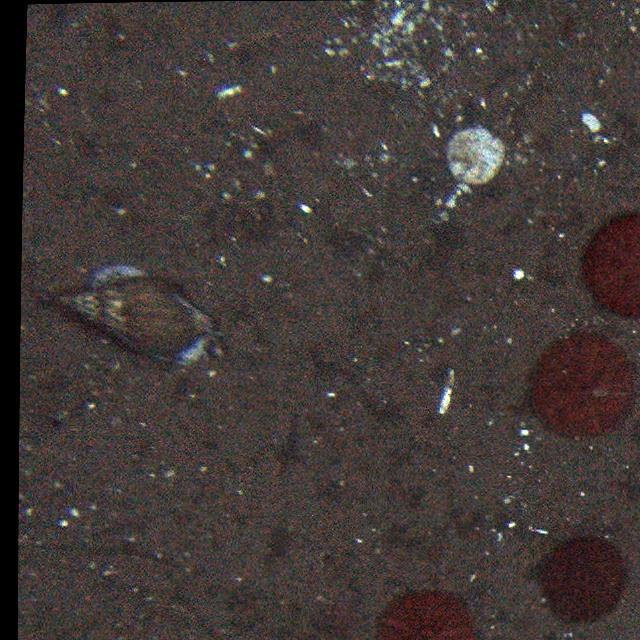whelk: (48, 275, 221, 356)
